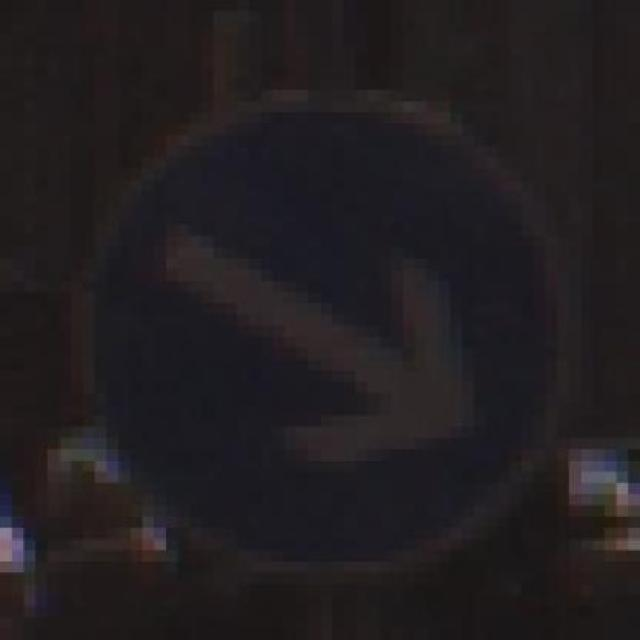Keep-Right: (36, 78, 582, 572)
